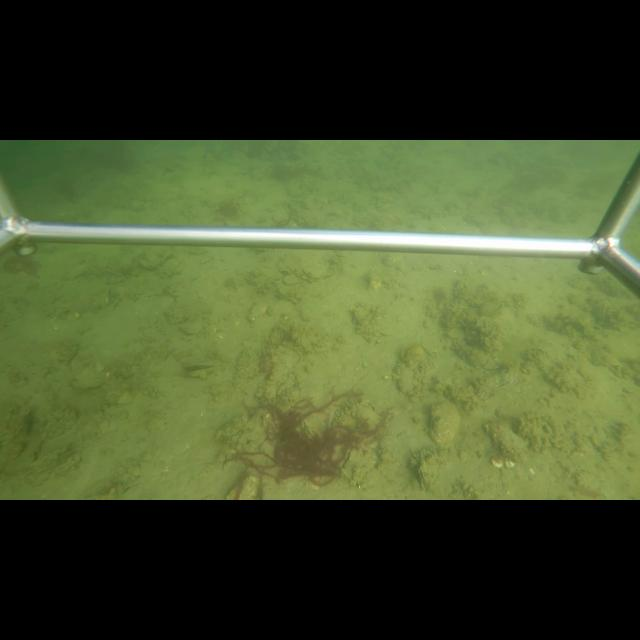Oyster-Closed: (415, 454, 445, 497), (68, 364, 109, 394)
Oyster-Open: (178, 358, 220, 380)
